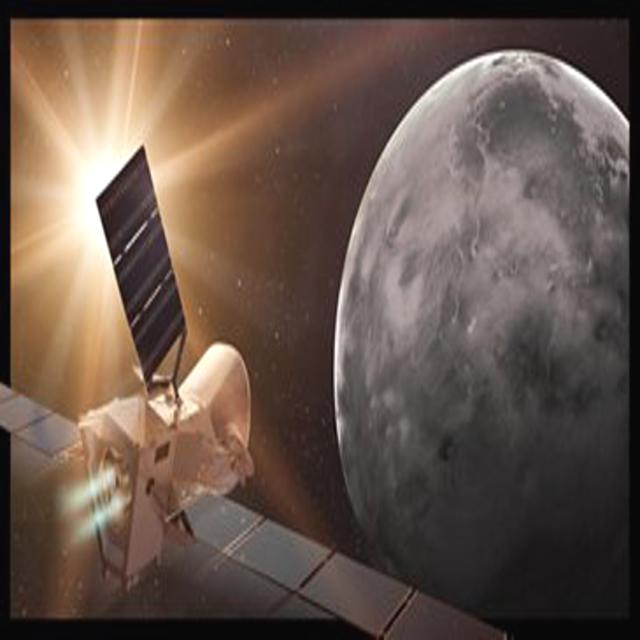satellite: (3, 104, 533, 640)
